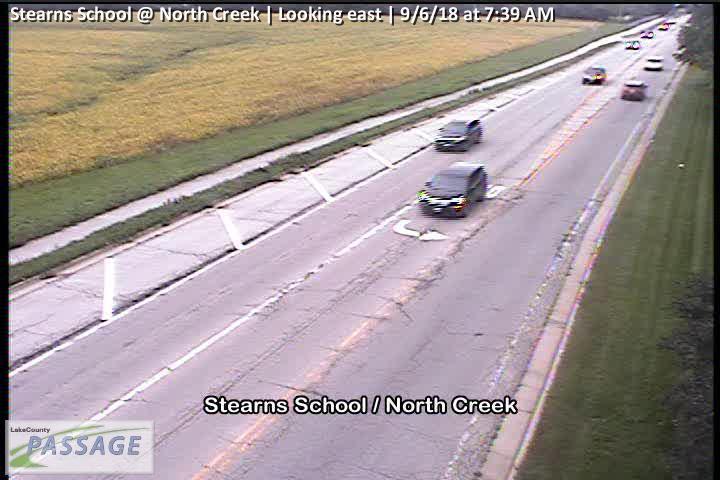SUV: (417, 162, 488, 218), (433, 119, 482, 152), (621, 80, 648, 100), (581, 64, 607, 84)
Sedan: (644, 56, 664, 70)
